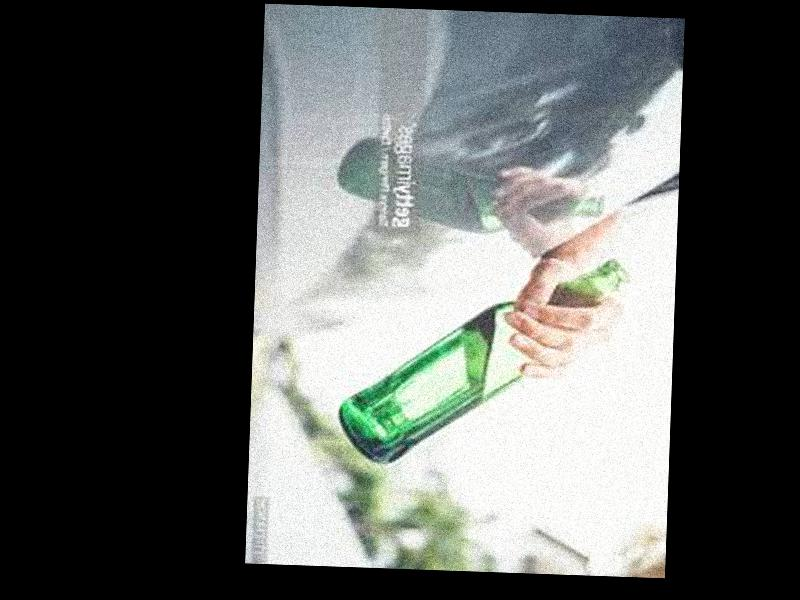Beer: (337, 246, 625, 472)
